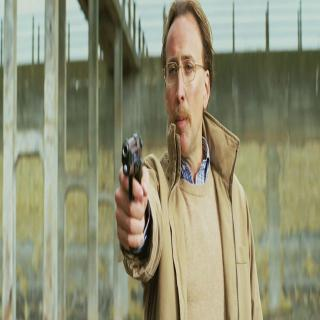gun: (120, 126, 144, 231)
